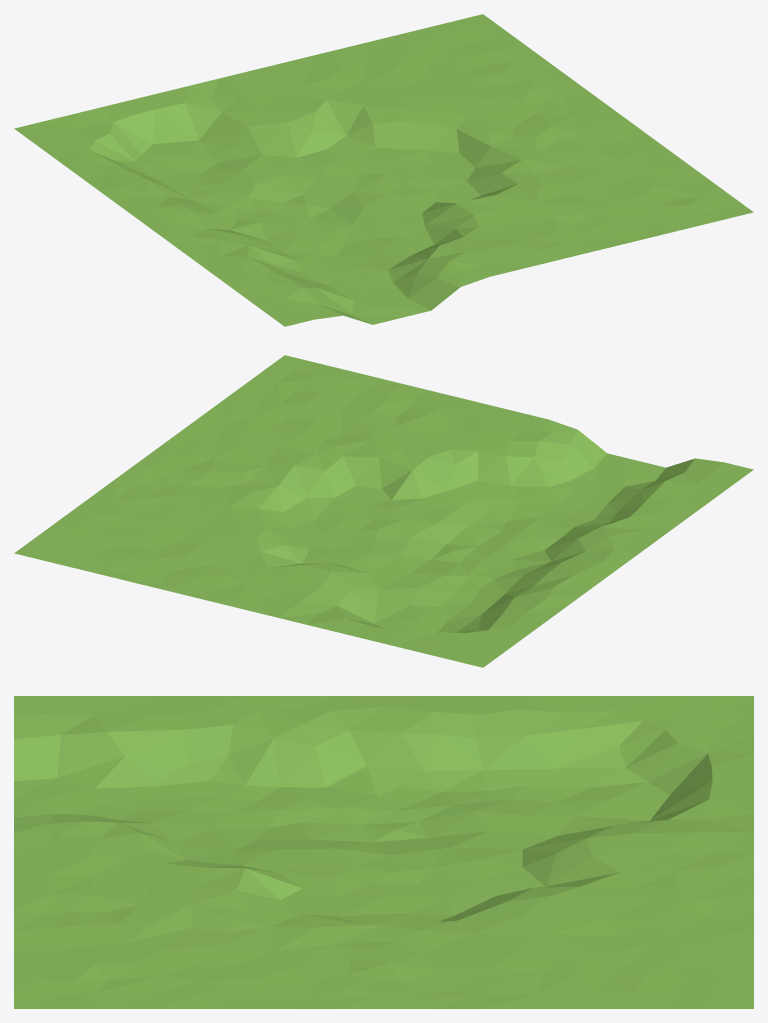
File: MT_River_End_M_a_02_LOD.fbx
3 renders of one model, top to bottom at view 1: azimuth 30°, elevation 25°; view 2: azimuth 150°, elevation 25°; view 3: azimuth 270°, elevation 25°, orthographic. The views are drawn at different scales.
Parts seen in each view (by area): view 1: MT_River_End_M_a_02_LOD0; view 2: MT_River_End_M_a_02_LOD0; view 3: MT_River_End_M_a_02_LOD0.
Boxes of the visible parts, x1,y1,x2,y2 form: MT_River_End_M_a_02_LOD0: (14, 14, 753, 326); MT_River_End_M_a_02_LOD0: (14, 355, 753, 667); MT_River_End_M_a_02_LOD0: (14, 696, 753, 1008).
Size of what is drawn, in the model's own units: 50 by 2.32 by 50.
